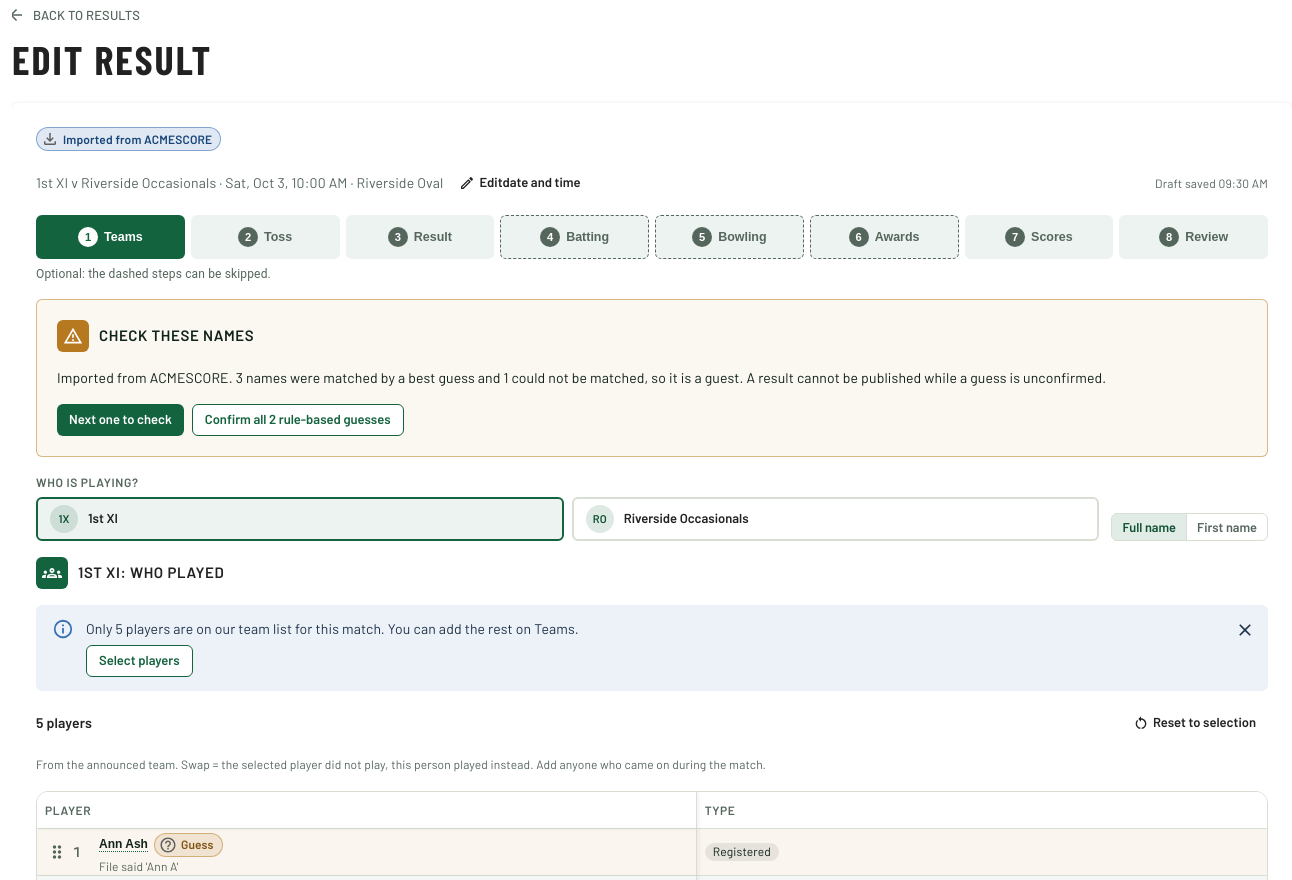
Test case: an imported draft in the capture wizard › the toss warning › says the decision is missing when only the winner of the toss is known
This screenshot has width=1292, height=880.
Check: the heading "Edit result" is shown, box [12, 35, 212, 83]
Check: the element with test id "import-guess-banner" is shown, box [36, 299, 1268, 457]
Click the button "2 Toss".
click(265, 237)  # box [191, 215, 340, 259]
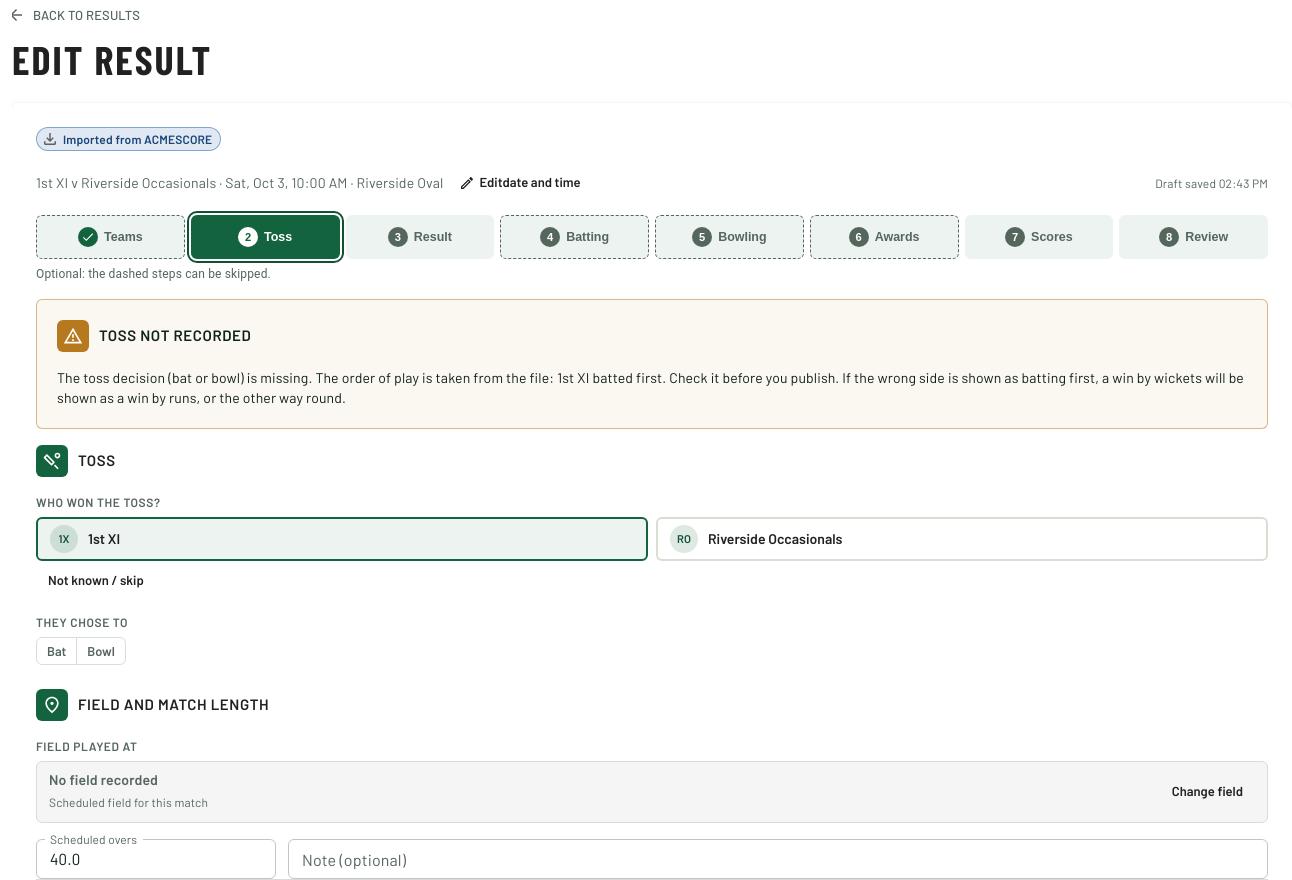
Check: the element with test id "import-toss-warning" shows "The toss decision (bat or bowl) is missing.", box [57, 369, 315, 386]
